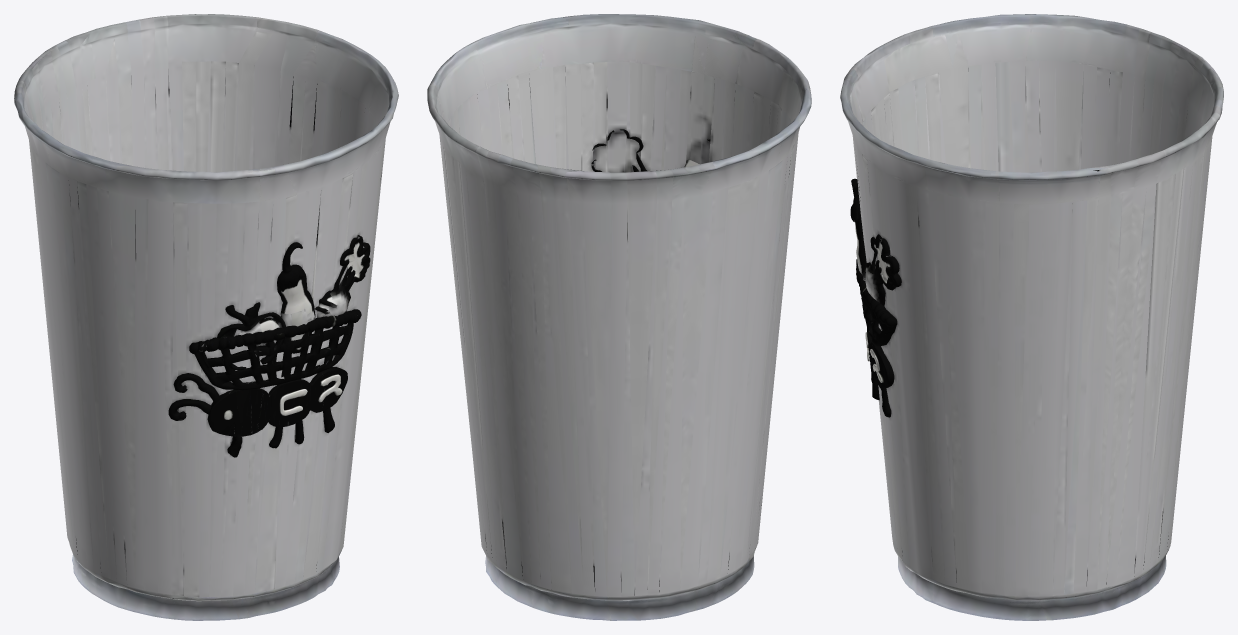
Rendered from cup.glb.
The picture shows the model from 3 angles, left to right: view 1: azimuth 30°, elevation 25°; view 2: azimuth 150°, elevation 25°; view 3: azimuth 270°, elevation 25°; orthographic projection.
Parts seen in each view (by area): view 1: geometry_0; view 2: geometry_0; view 3: geometry_0.
Part boxes in pixels (x1,y1,x2,y2): geometry_0: (14,14,398,620); geometry_0: (427,14,811,620); geometry_0: (840,14,1223,620).
Bounding box in the file's own units: 0.7022 × 0.9512 × 0.7012.
1 material, 1 textured.
